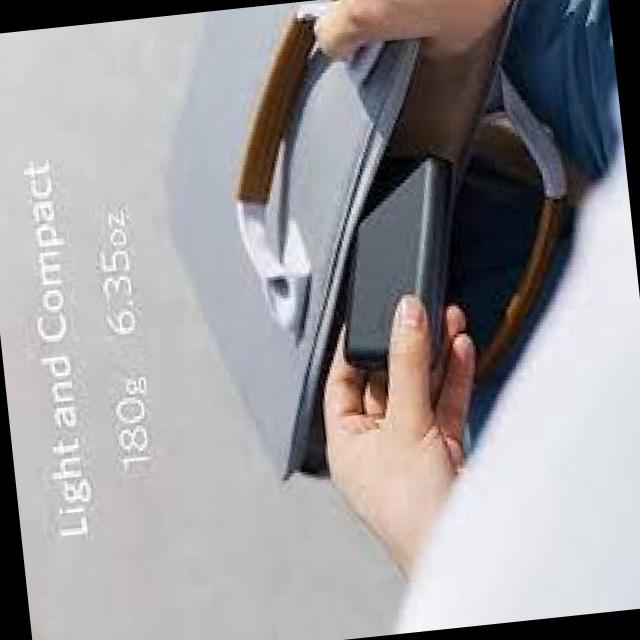portable-charger: (320, 152, 478, 383)
